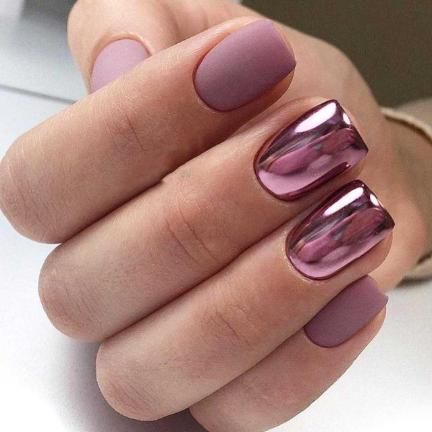Nail: (253, 98, 369, 202), (284, 180, 396, 282), (194, 19, 298, 112), (303, 275, 388, 348), (89, 38, 149, 94)
